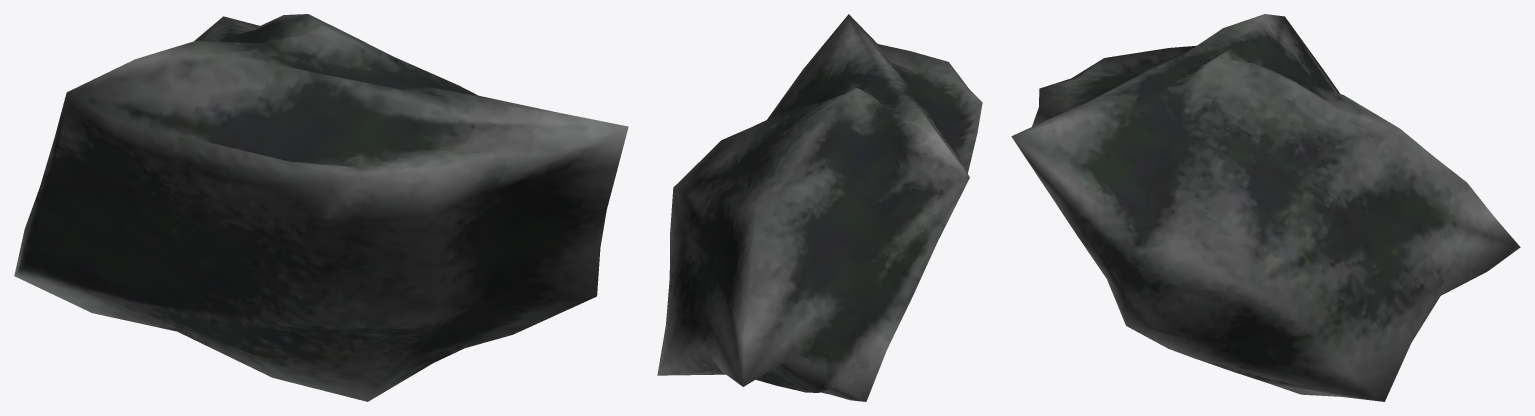
The model's file is rockDemo_s_01.glb.
3 renders of one model, left to right at view 1: azimuth 30°, elevation 25°; view 2: azimuth 150°, elevation 25°; view 3: azimuth 270°, elevation 25°, orthographic. The views are drawn at different scales.
Parts seen in each view (by area): view 1: Rock_s_01; view 2: Rock_s_01; view 3: Rock_s_01.
Boxes of the visible parts, bbox=[...] form: Rock_s_01: bbox=[14, 14, 628, 401]; Rock_s_01: bbox=[657, 14, 982, 401]; Rock_s_01: bbox=[1011, 14, 1520, 401].
Bounding box in the file's own units: 0.1375 × 0.1141 × 0.1798.
Materials: 1 (1 with a texture image).
